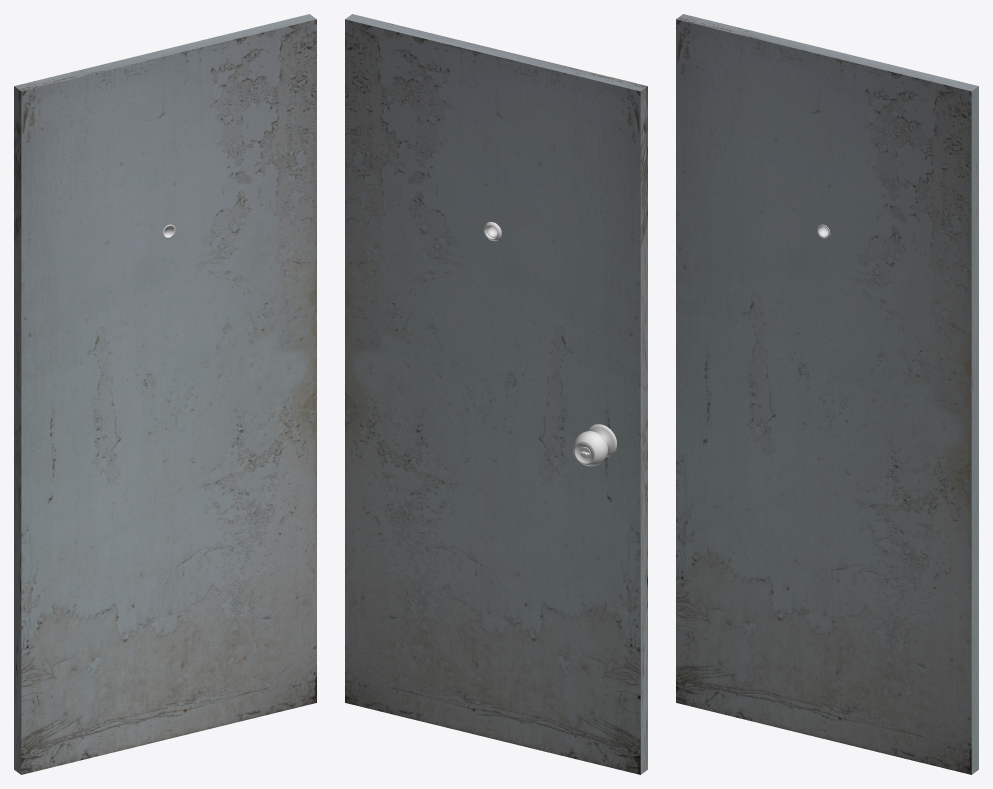
Rendered from Door.fbx.
The picture shows the model from 3 angles, left to right: view 1: azimuth 30°, elevation 25°; view 2: azimuth 150°, elevation 25°; view 3: azimuth 330°, elevation 25°; orthographic projection.
Visible parts, largest first — view 1: DoorMain; view 2: DoorMain, Handle; view 3: DoorMain.
Part boxes in pixels (x1,y1,x2,y2): DoorMain: (14,14,316,774); DoorMain: (345,14,647,774); Handle: (573,424,616,466); DoorMain: (676,14,978,774).
Bounding box in the file's own units: 217 × 479 × 32.15.
